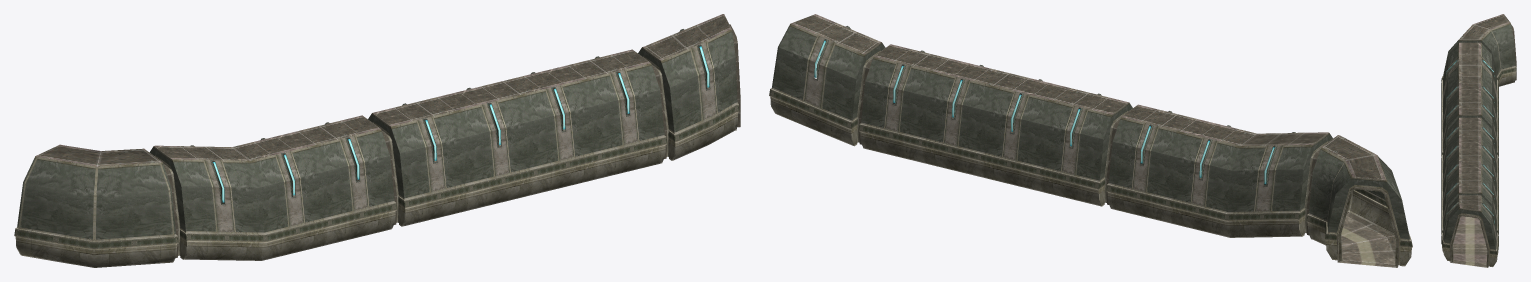
The model's file is thm_yavn_jedi_enclave_light_r5_tier2hall2_mesh_r5.fbx.
The picture shows the model from 3 angles, left to right: view 1: azimuth 30°, elevation 25°; view 2: azimuth 150°, elevation 25°; view 3: azimuth 270°, elevation 25°; orthographic projection. The views are drawn at different scales.
Visible parts, largest first — view 1: mesh_node; view 2: mesh_node; view 3: mesh_node.
Boxes of the visible parts, x1=… form: mesh_node: x1=14, y1=14, x2=740, y2=267; mesh_node: x1=769, y1=14, x2=1412, y2=267; mesh_node: x1=1441, y1=14, x2=1516, y2=267.
Size of the model in its own units: 27.35 by 4.17 by 4.31.
3 materials, 3 textured.
